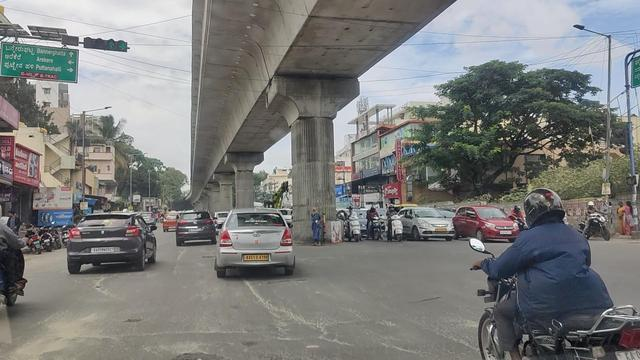LMV: (66, 205, 158, 270), (215, 207, 291, 279)
RoadDamages: (265, 307, 349, 350), (146, 319, 252, 336), (243, 282, 278, 303)
